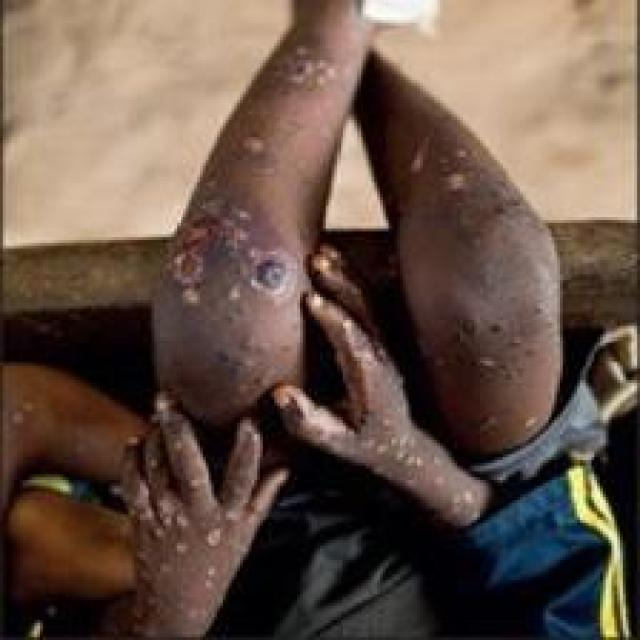monkeypox: (75, 0, 592, 604)
